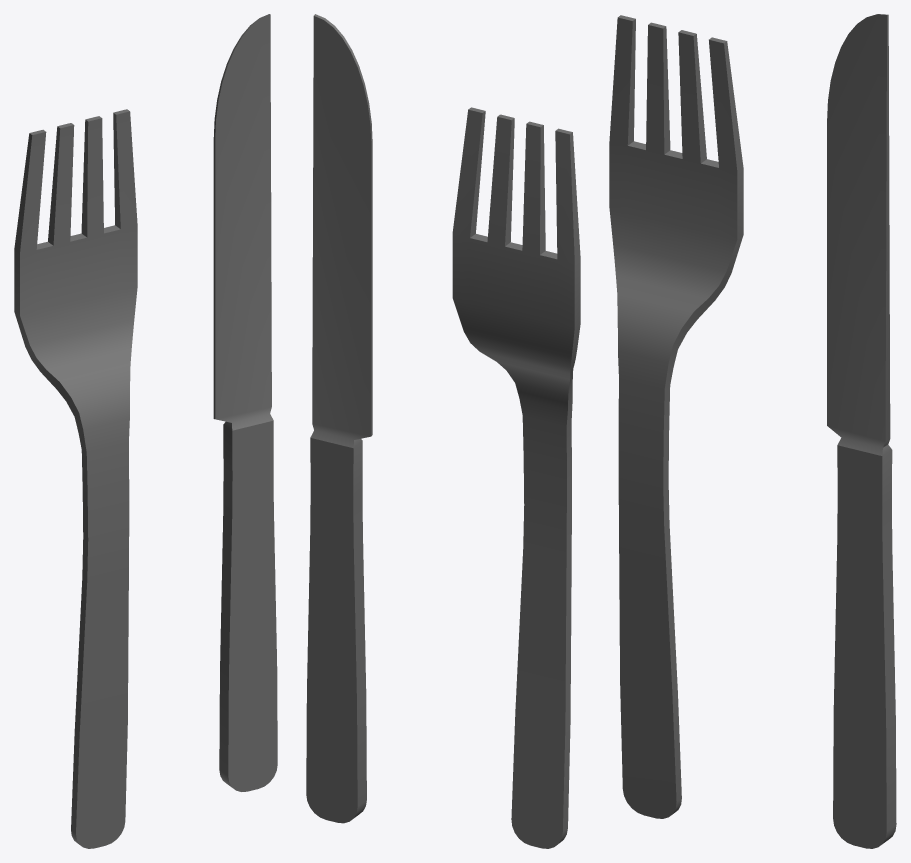
File: fork_and_knife.gltf
3 views of the same model, side by side, from view 1: azimuth 30°, elevation 25°; view 2: azimuth 150°, elevation 25°; view 3: azimuth 330°, elevation 25° (orthographic). The views are drawn at different scales.
Visible parts, largest first — view 1: Cube.451; view 2: Cube.451; view 3: Cube.451.
Part boxes in pixels (x1,y1,x2,y2): Cube.451: [14, 14, 277, 848]; Cube.451: [306, 14, 580, 848]; Cube.451: [609, 14, 896, 848].
Bounding box in the file's own units: 0.7714 × 2.21 × 0.1955.
Materials: 1 (1 with a texture image).
